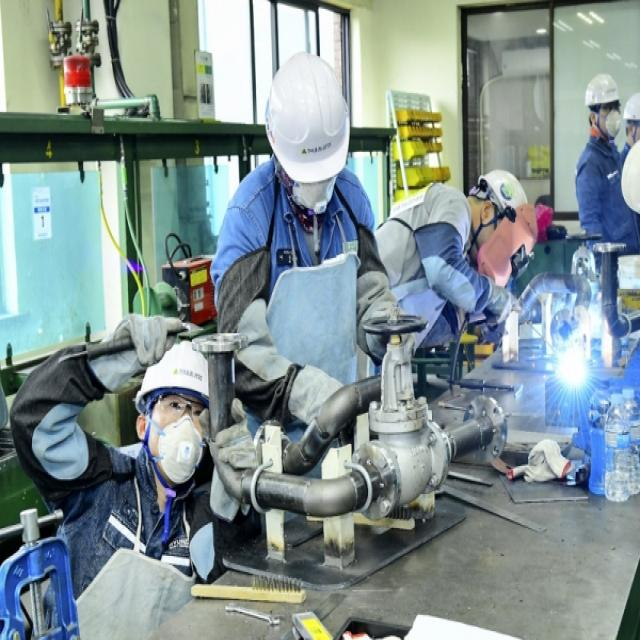welding: (556, 341, 593, 388)
